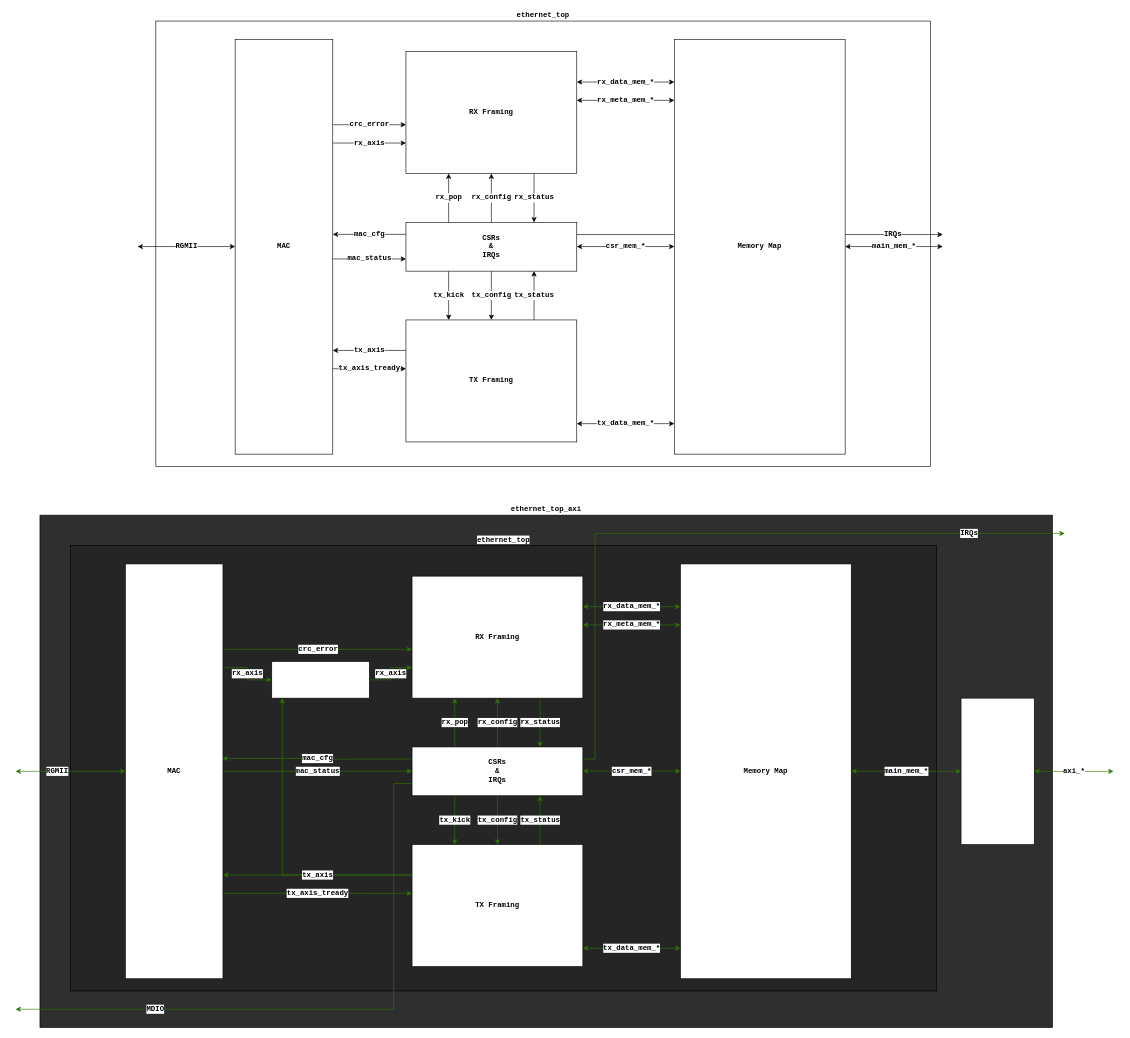
This 1130x1038 diagram has some shape labels left out. Here are the shapes that lost their labels. From the top down, the centre of each, then its label:
At (320,679): "Loopback".
At (997,771): "AXI to Mem".
